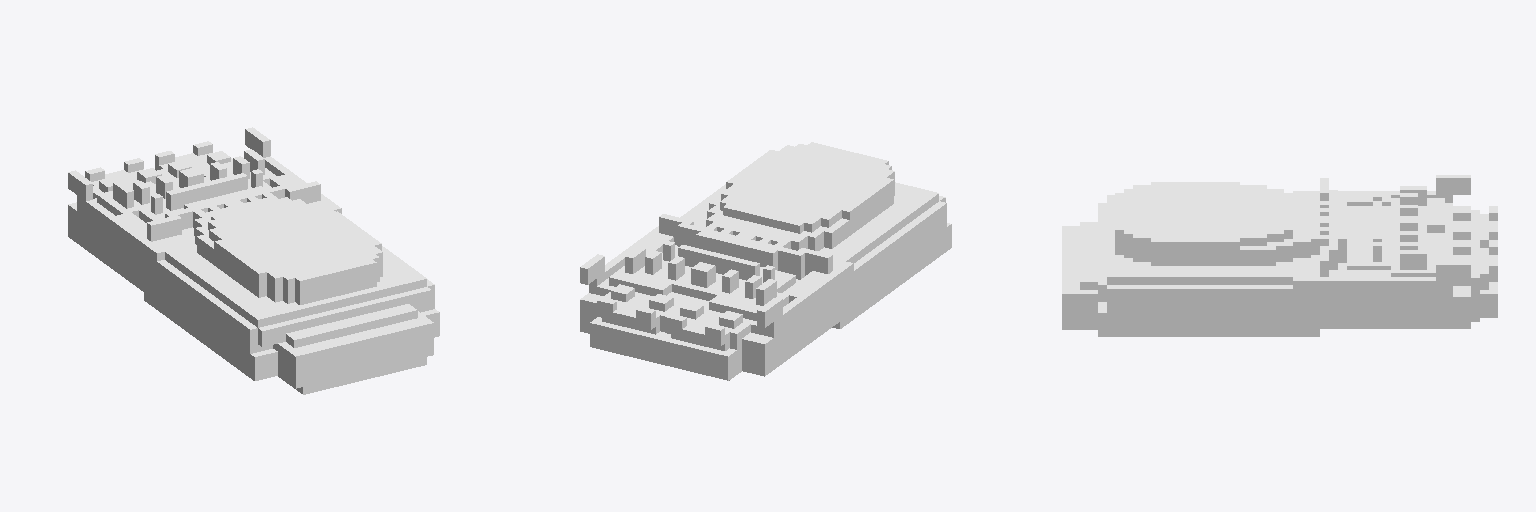
The model's file is firsttank-22.obj.
3 views of the same model, side by side, from view 1: azimuth 30°, elevation 25°; view 2: azimuth 150°, elevation 25°; view 3: azimuth 270°, elevation 25° (orthographic).
Visible parts, largest first — view 1: object 1; view 2: object 1; view 3: object 1.
Part boxes in pixels (x1,y1,x2,y2): object 1: (68,127,439,394); object 1: (580,142,951,380); object 1: (1062,175,1497,336).
Size of the model in its own units: 2.4 by 1.1 by 4.9.